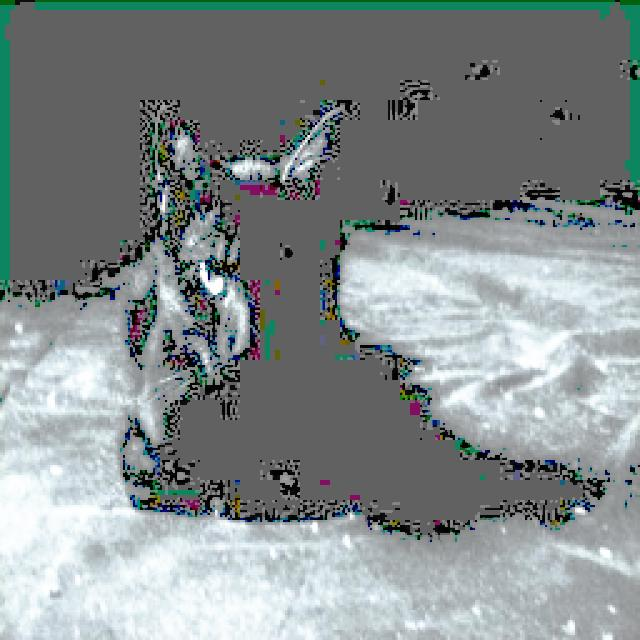cat: (104, 94, 384, 540)
